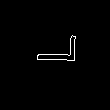L_W: (30, 45, 79, 76)
